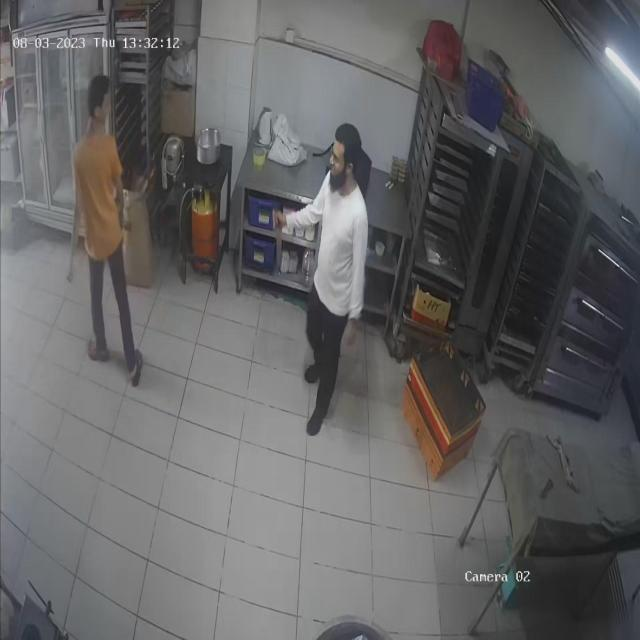Knife: (266, 204, 296, 261)
